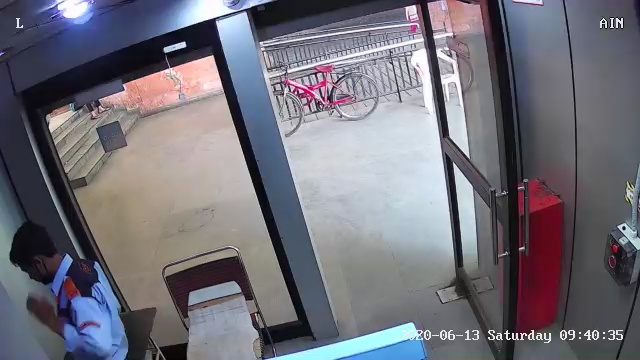open: (407, 2, 560, 360)
